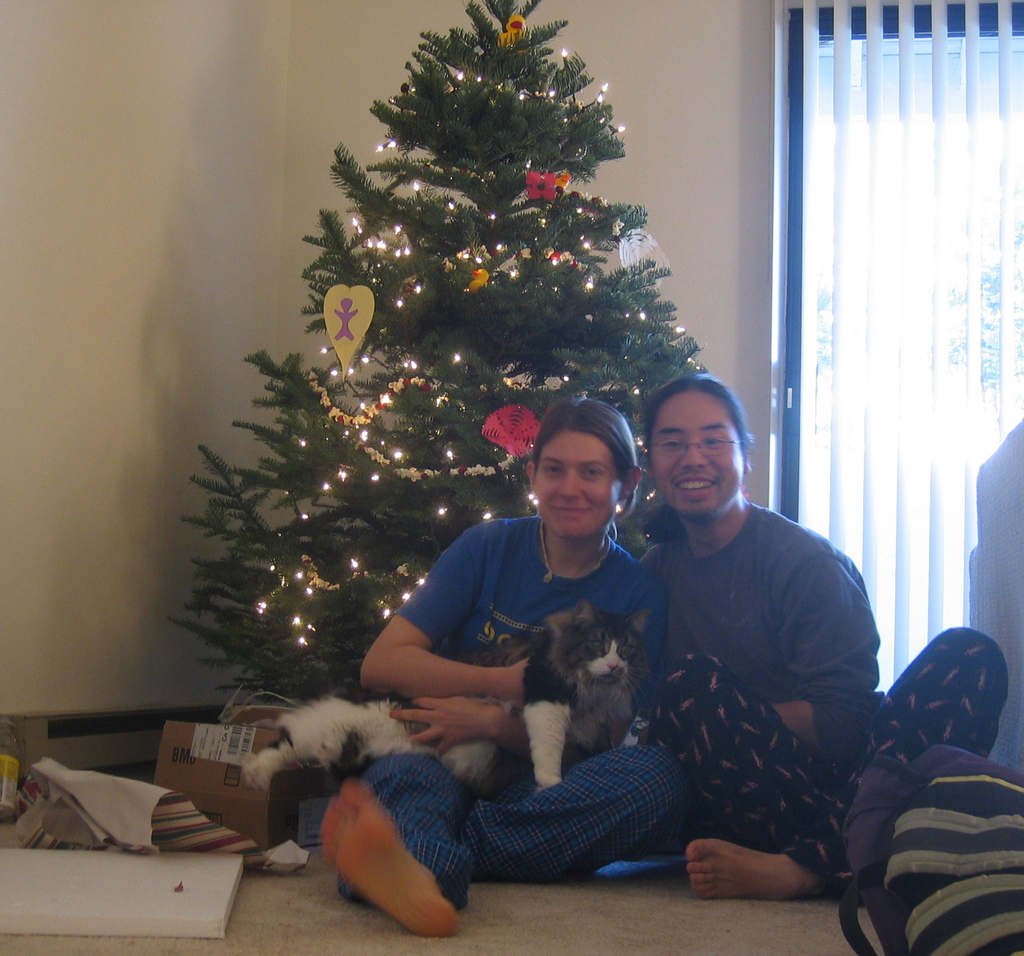Human-face: (648, 387, 745, 515), (532, 432, 622, 537)
